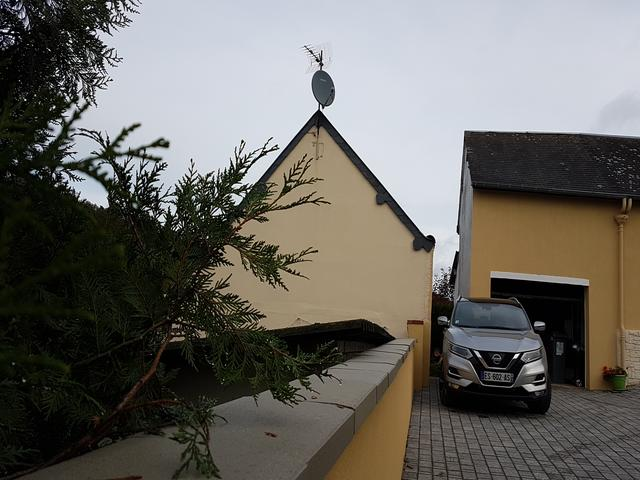Quashquai: (476, 369, 517, 386)
